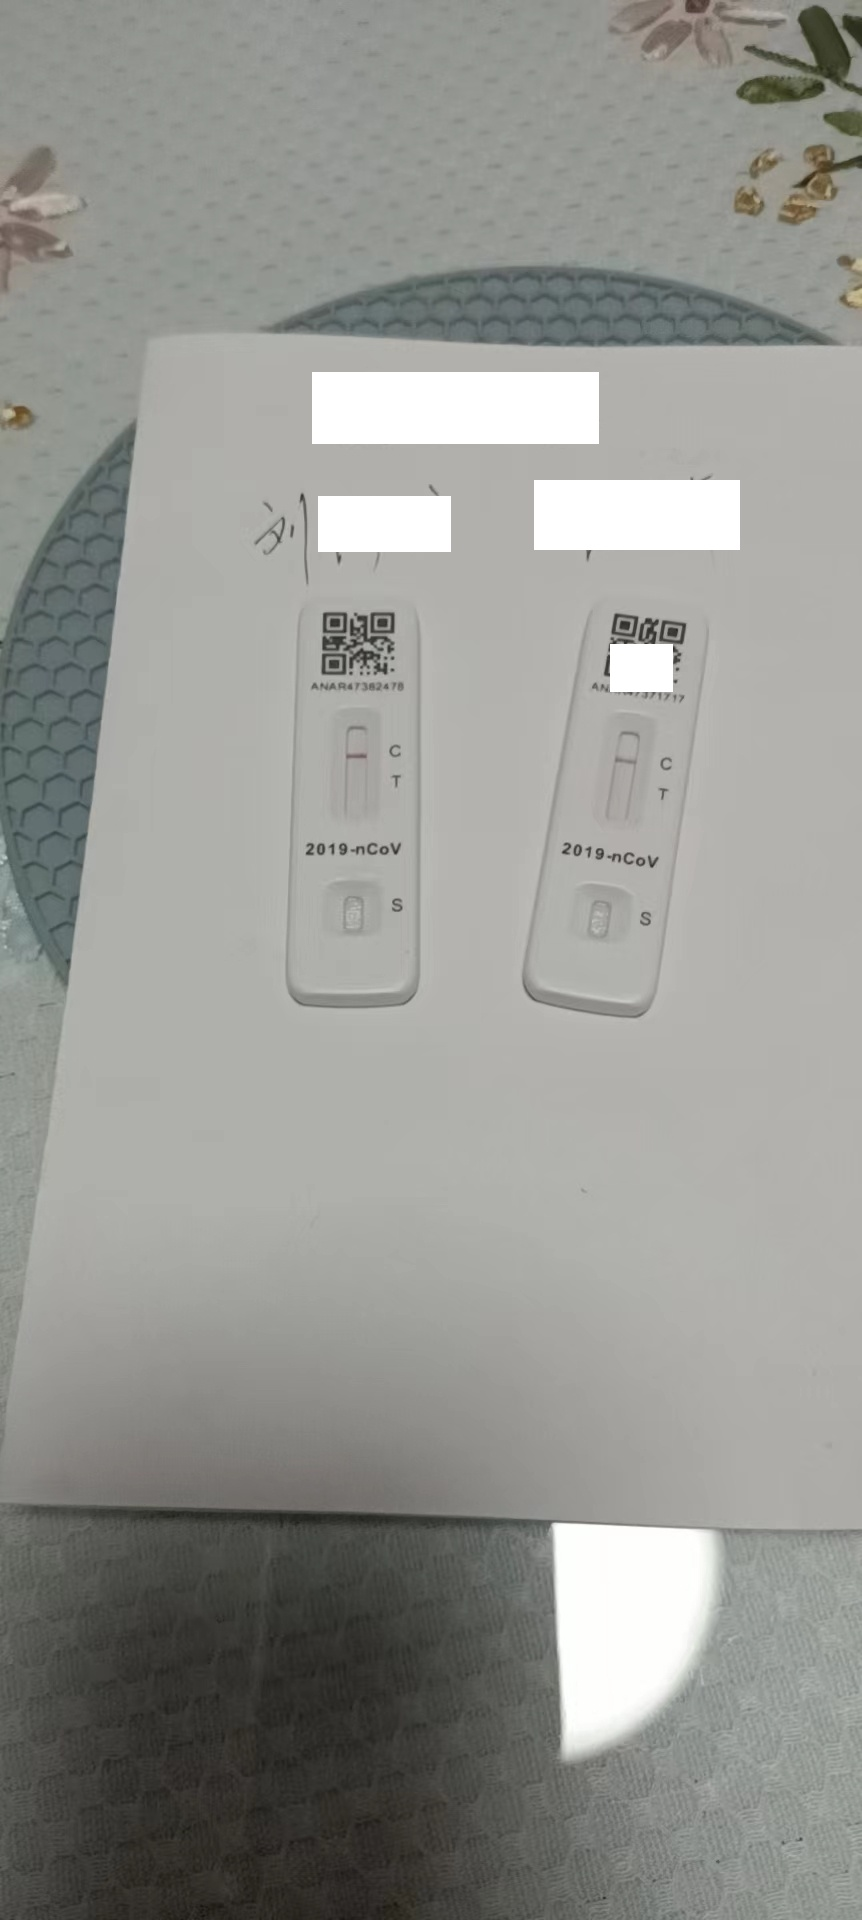negative: (334, 709, 380, 822), (612, 713, 642, 829)
